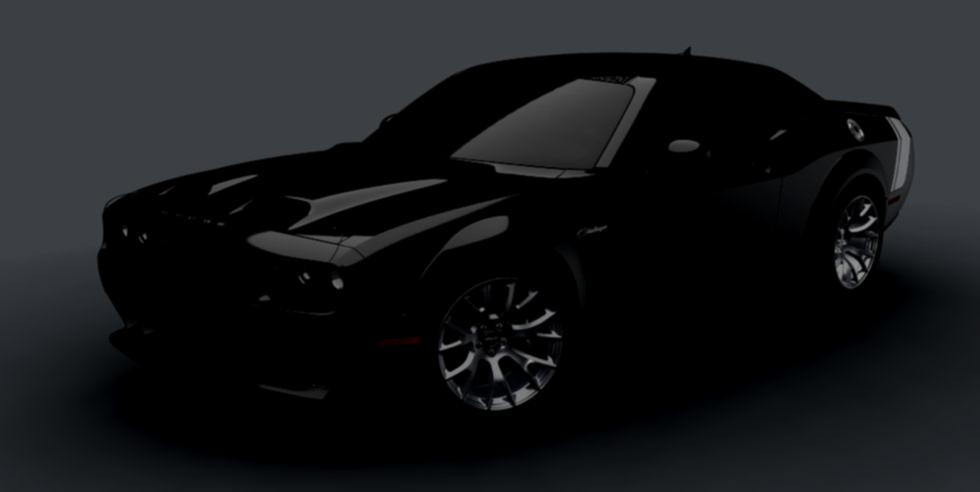dodge: (157, 203, 233, 233)
